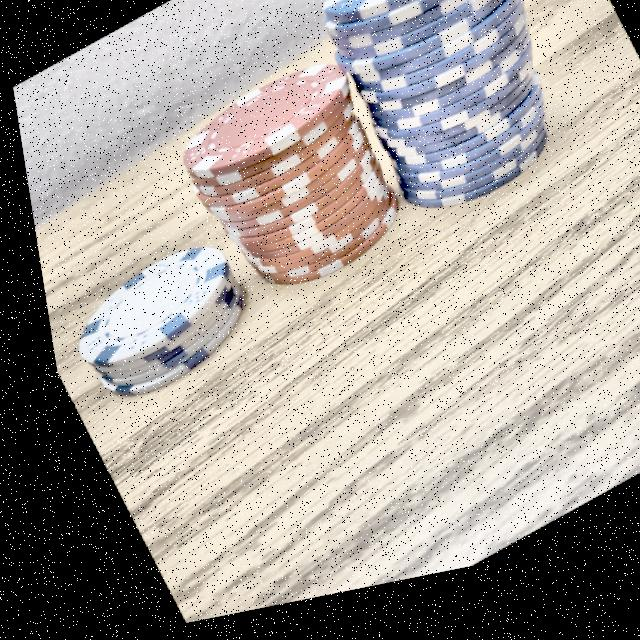Chip: (266, 0, 633, 295), (136, 20, 436, 358), (32, 211, 268, 429)
